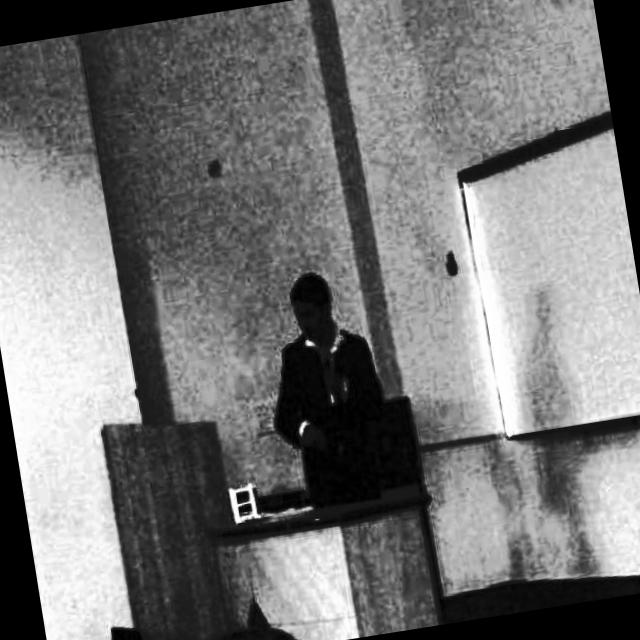Person: (252, 267, 398, 514)
